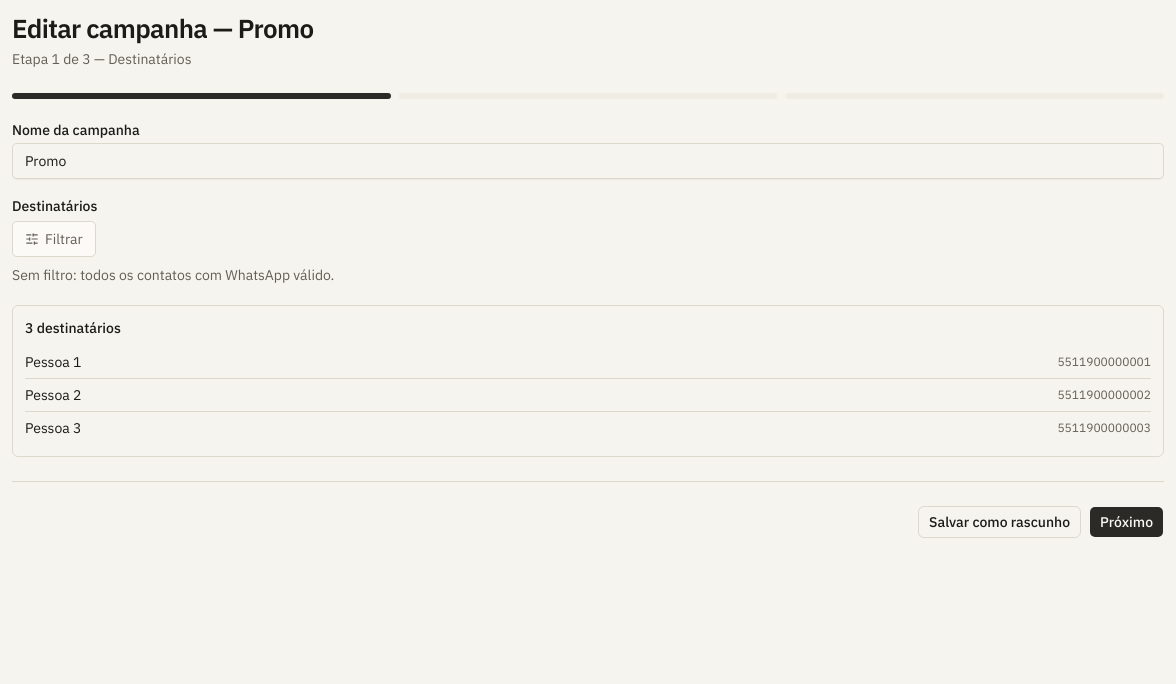
Scenario: B54-04 — tipo Template na campanha › CA-B54-15: should apagar o template, voltar a Texto e avisar ao trocar para número sem ele ou do canal direto
Expected: the text "3 destinatários" is shown, [25,318,121,338]
Click the button "Próximo" at (1126, 522), box [1089,506,1164,538]
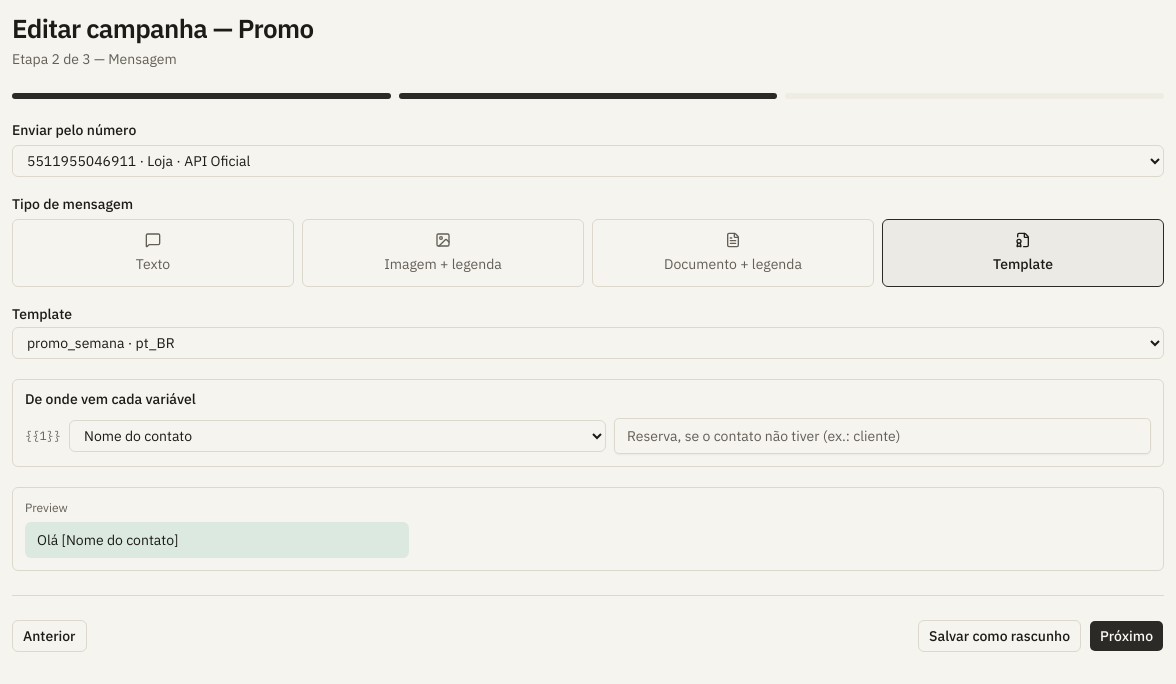
Expected: the text "Tipo de mensagem" is shown, [12,194,133,212]
Expected: the dropdown labelled "Template" shows "promo_semana · pt_BR", [12,326,1164,358]
Select "5511955046922 · Loja 2 · API Oficial" in the dropdown labelled "Enviar pelo número" at (588, 160), box [12,144,1164,176]
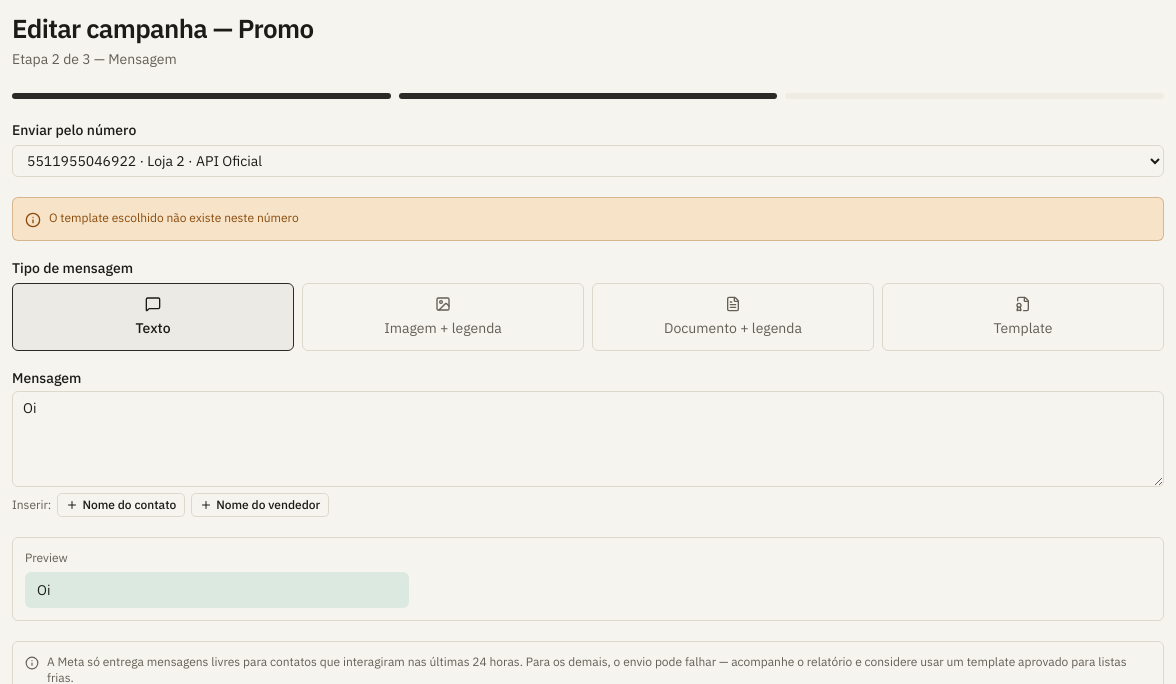
Expected: the text "O template escolhido não existe neste número" is shown, [49,210,299,228]
Expected: the text box labelled "Mensagem" is shown, [12,390,1164,486]
Select "5511955046911 · Loja · API Oficial" in the dropdown labelled "Enviar pelo número" at (588, 160), box [12,144,1164,176]
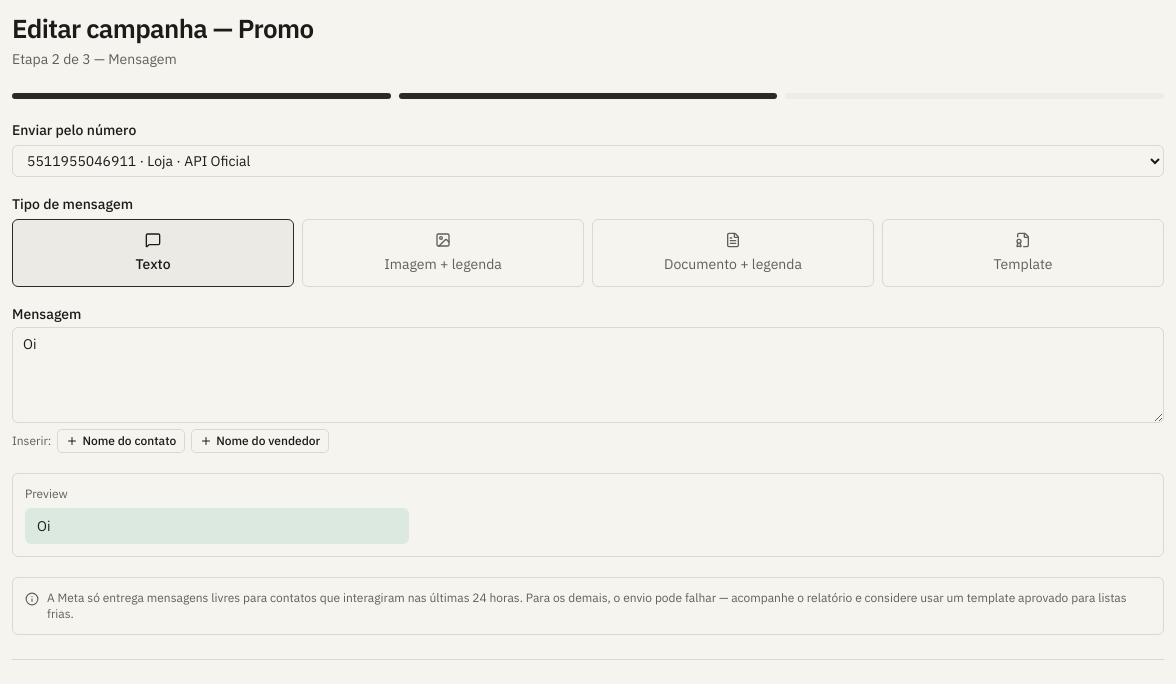
Click the button "Template" at (1023, 252), box [882,218,1164,286]
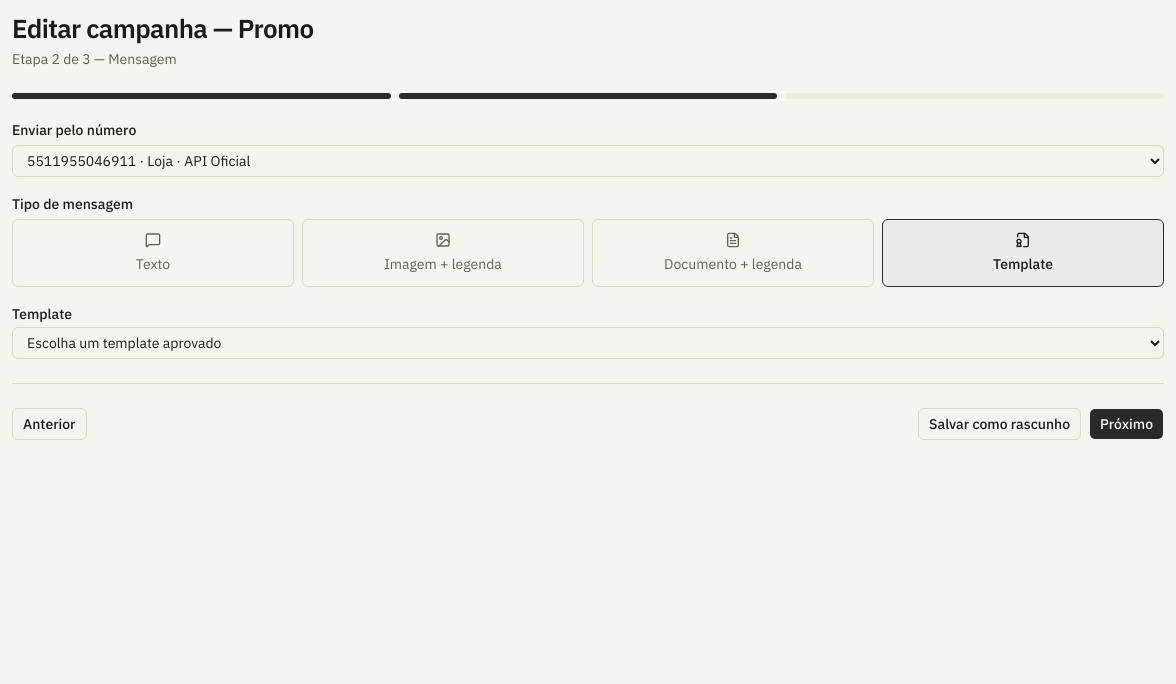
Select "promo_semana · pt_BR" in the dropdown labelled "Template" at (588, 342), box [12,326,1164,358]
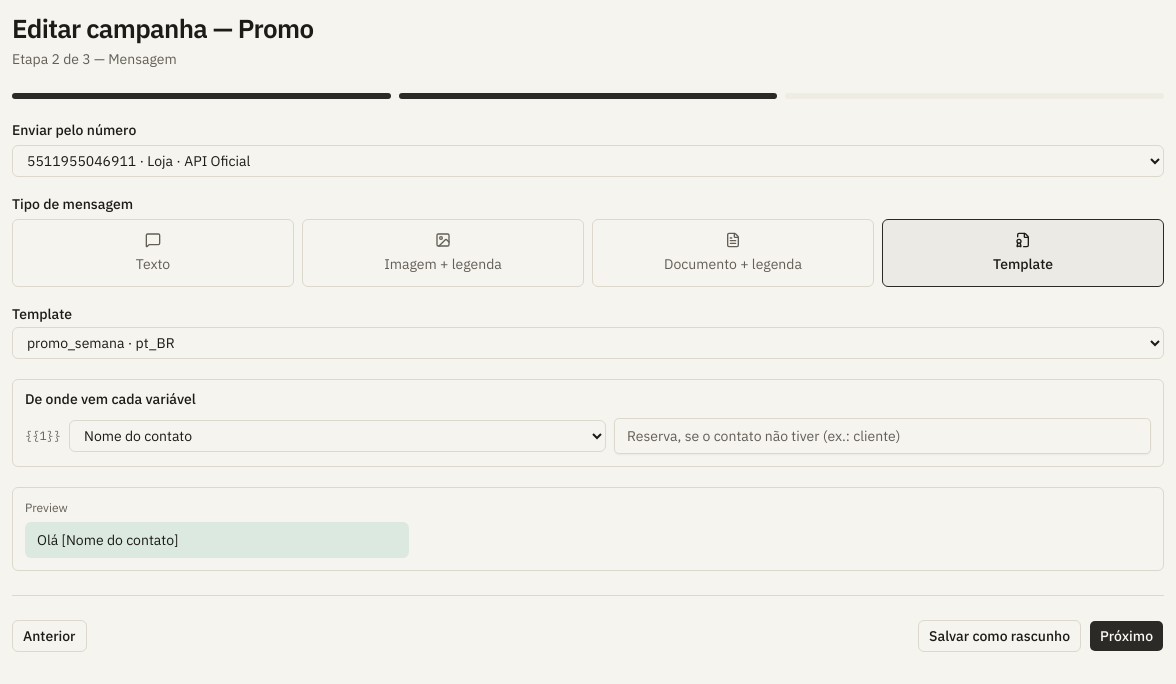
Select "5511900000001 · Chip · Canal direto" in the dropdown labelled "Enviar pelo número" at (588, 160), box [12,144,1164,176]
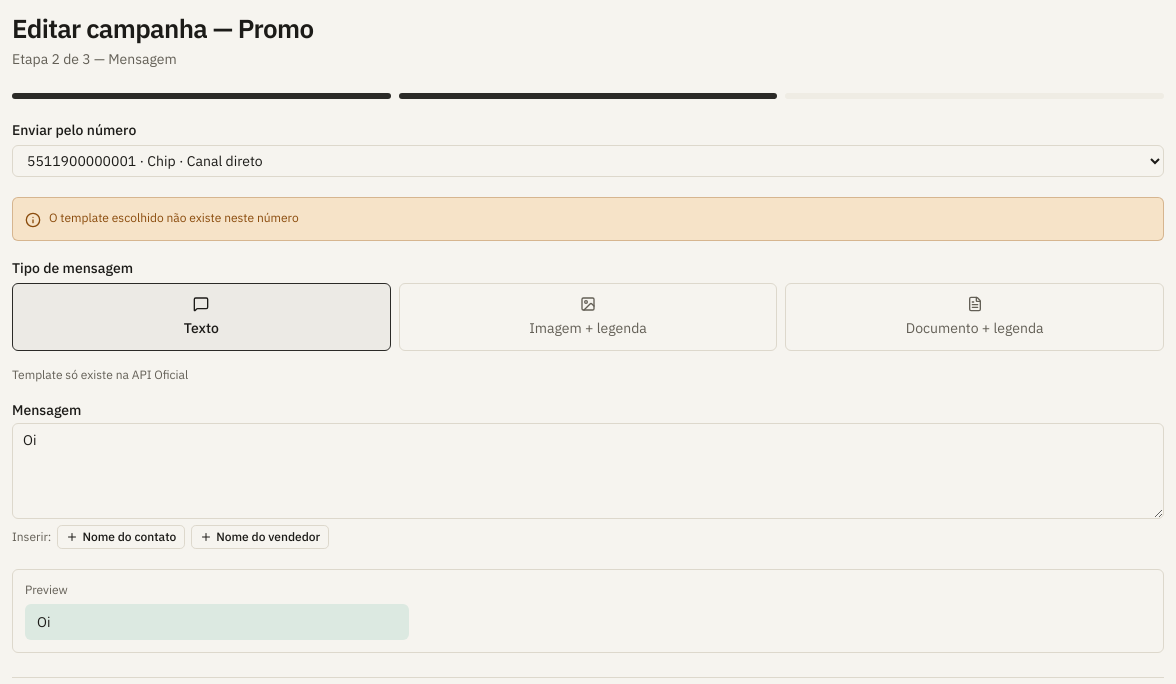
Expected: the text "O template escolhido não existe neste número" is shown, [49,210,299,228]
